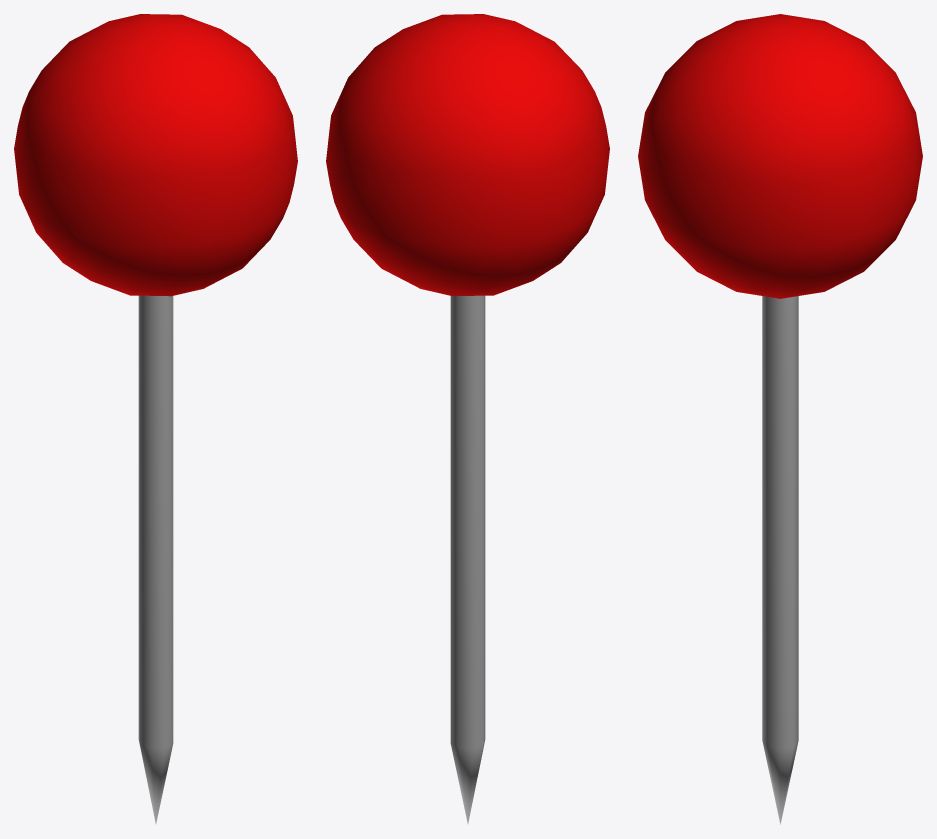
File: PushPin.glb
3 renders of one model, left to right at view 1: azimuth 30°, elevation 25°; view 2: azimuth 150°, elevation 25°; view 3: azimuth 270°, elevation 25°, orthographic.
Visible parts, largest first — view 1: Cylinder; view 2: Cylinder; view 3: Cylinder.
Part boxes in pixels (left/top/right/bottom): Cylinder: left=14, top=14, right=297, bottom=823; Cylinder: left=326, top=14, right=609, bottom=823; Cylinder: left=638, top=14, right=922, bottom=824.
Bounding box in the file's own units: 1.23 × 3.81 × 1.23.
